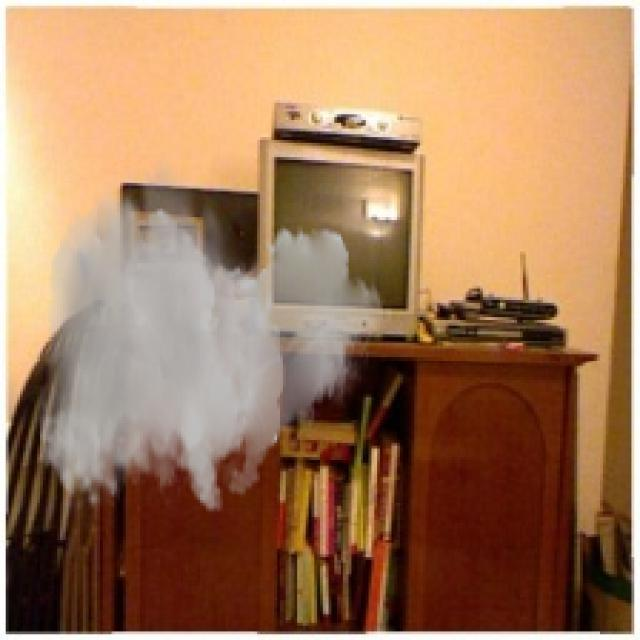Smoke: (37, 148, 394, 514)
